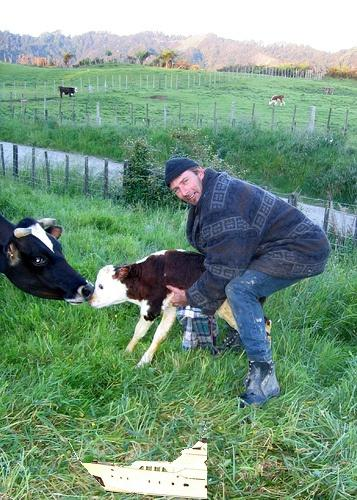tampered: (69, 422, 207, 499)
